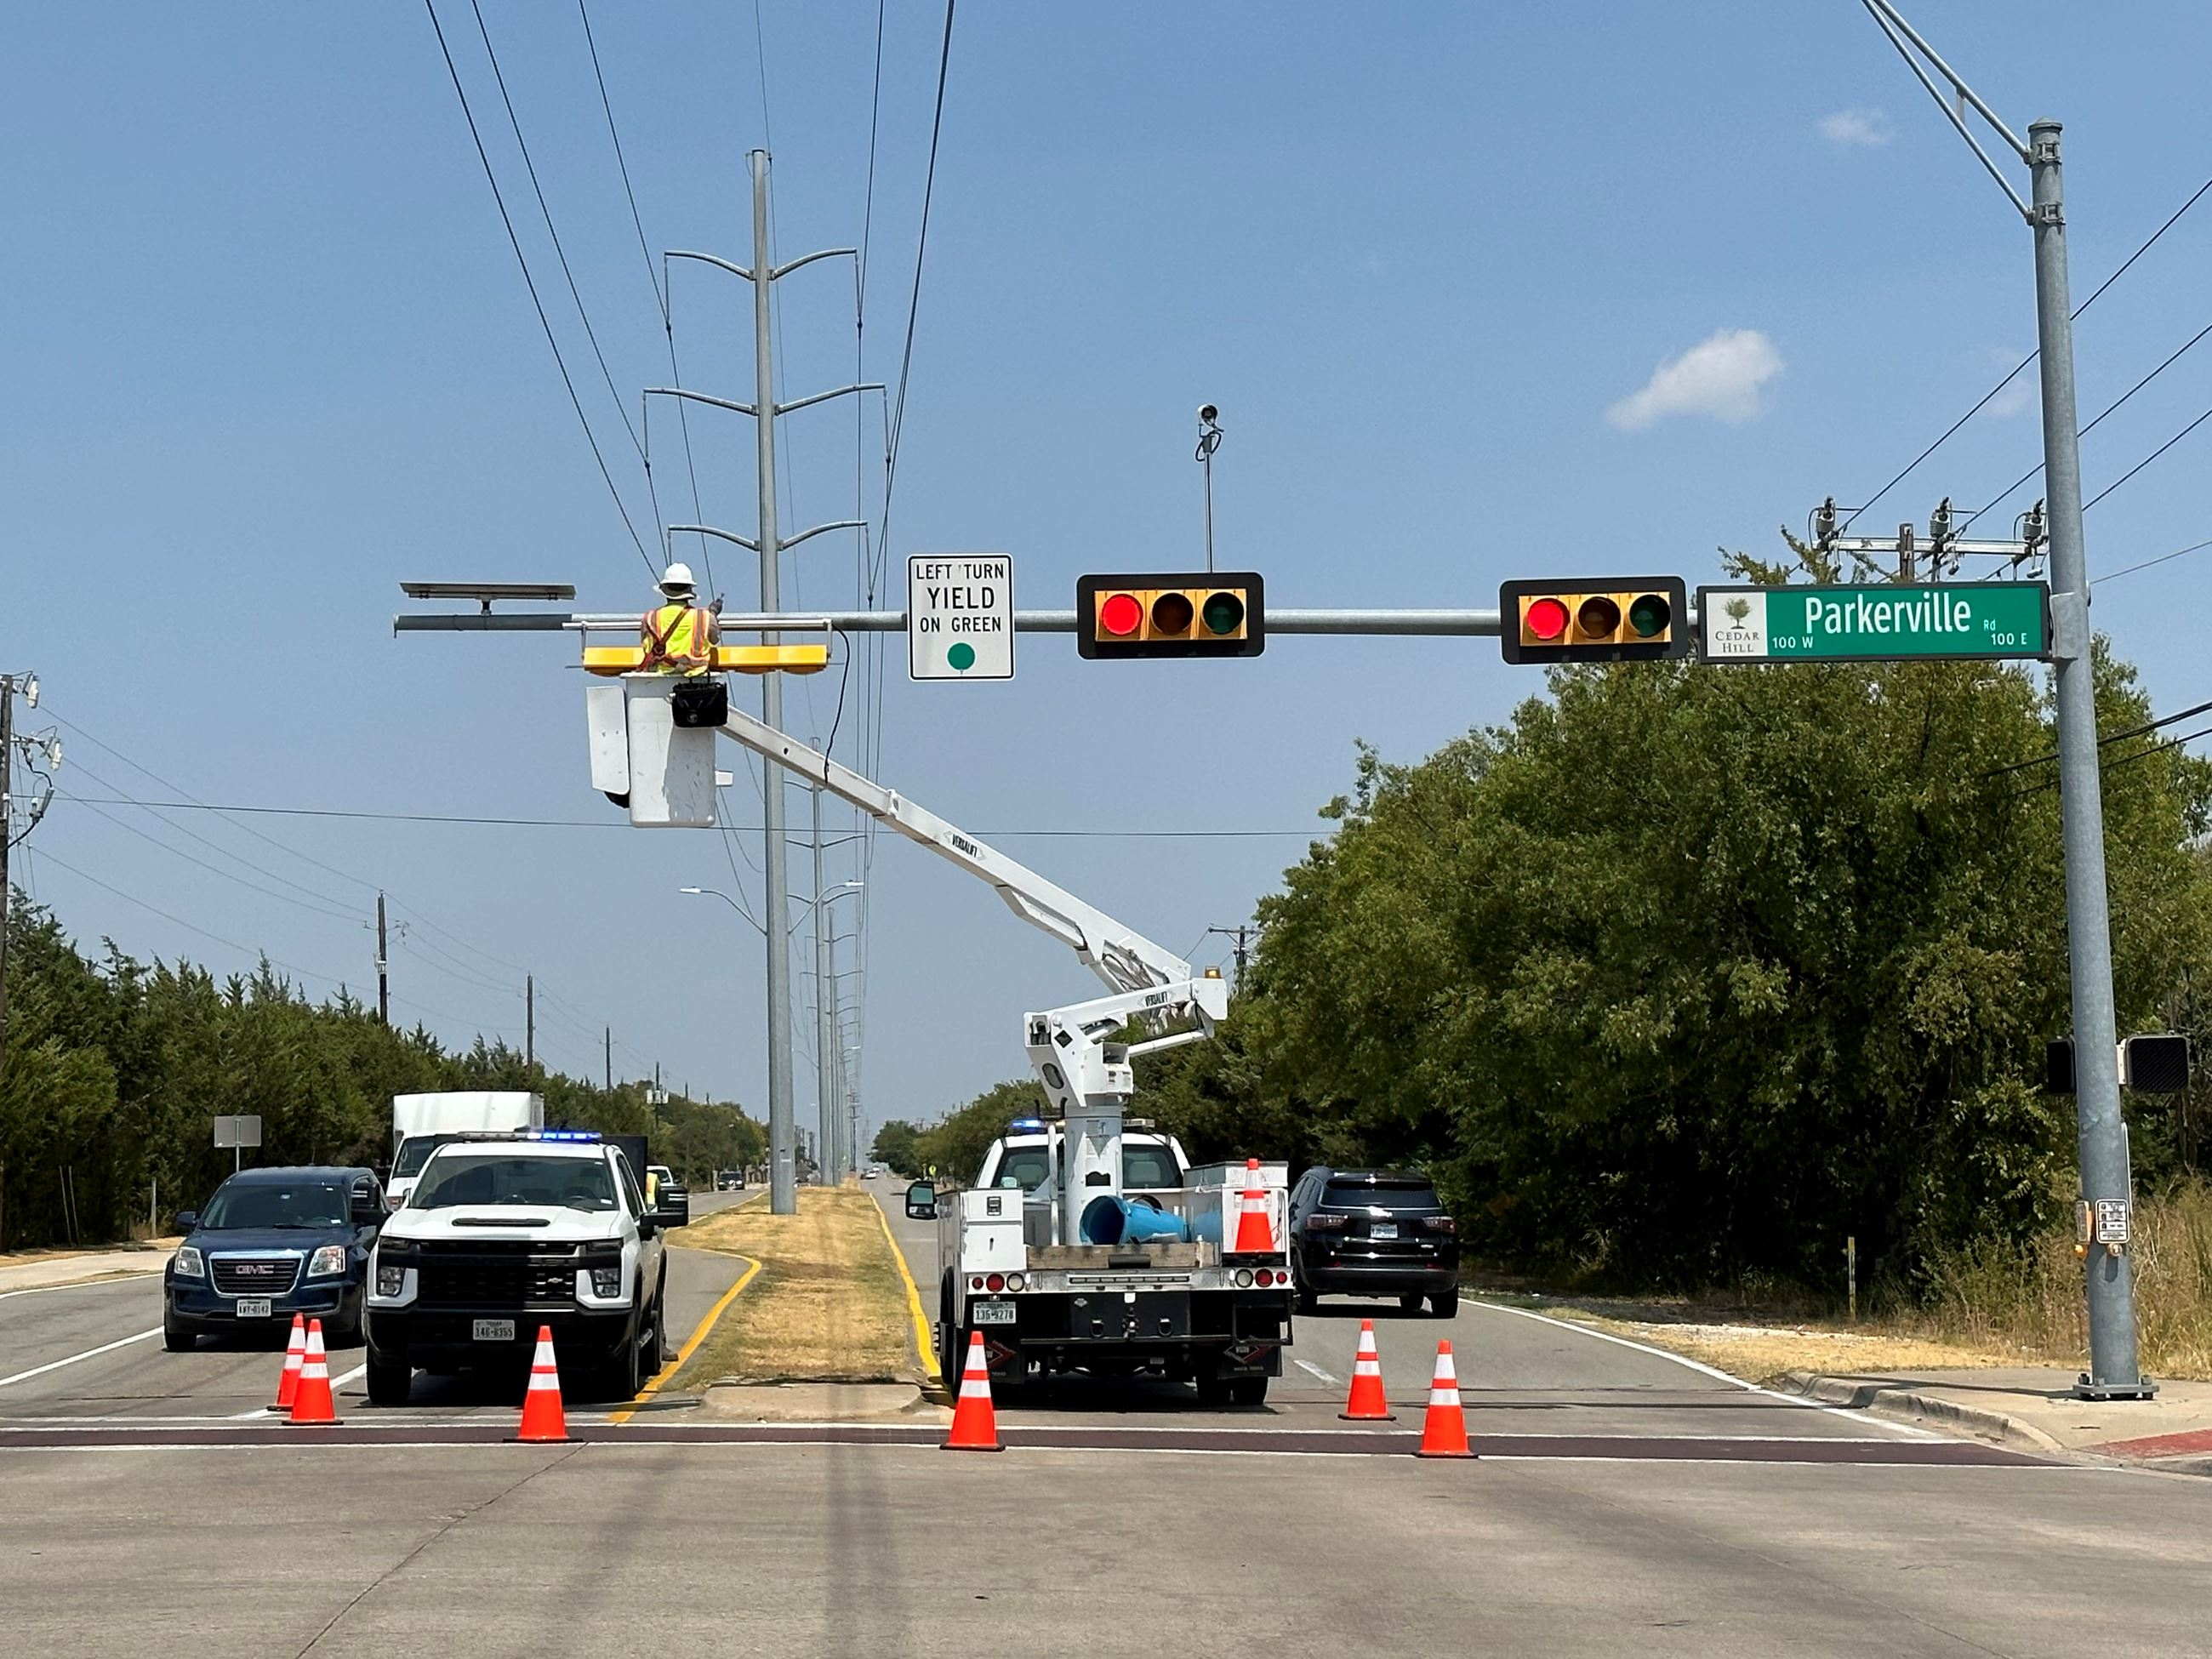redlight: (1080, 556, 1160, 683), (1509, 567, 1576, 680)
